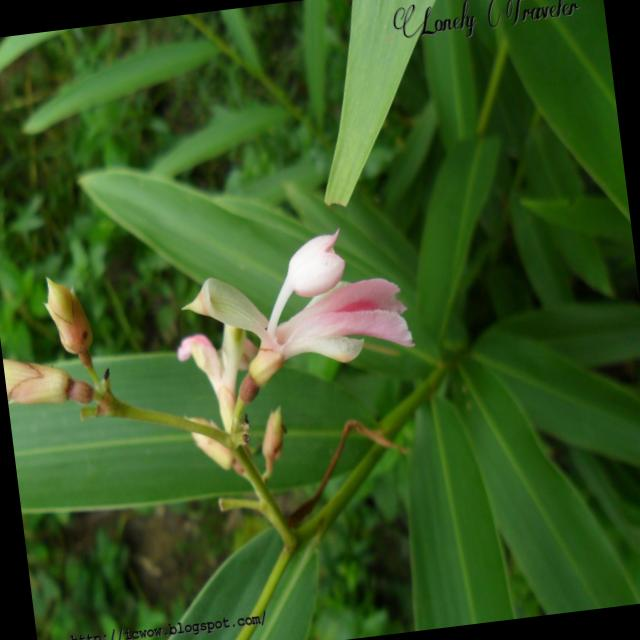Aquatic-Ginger: (163, 218, 421, 412), (0, 270, 101, 414)
